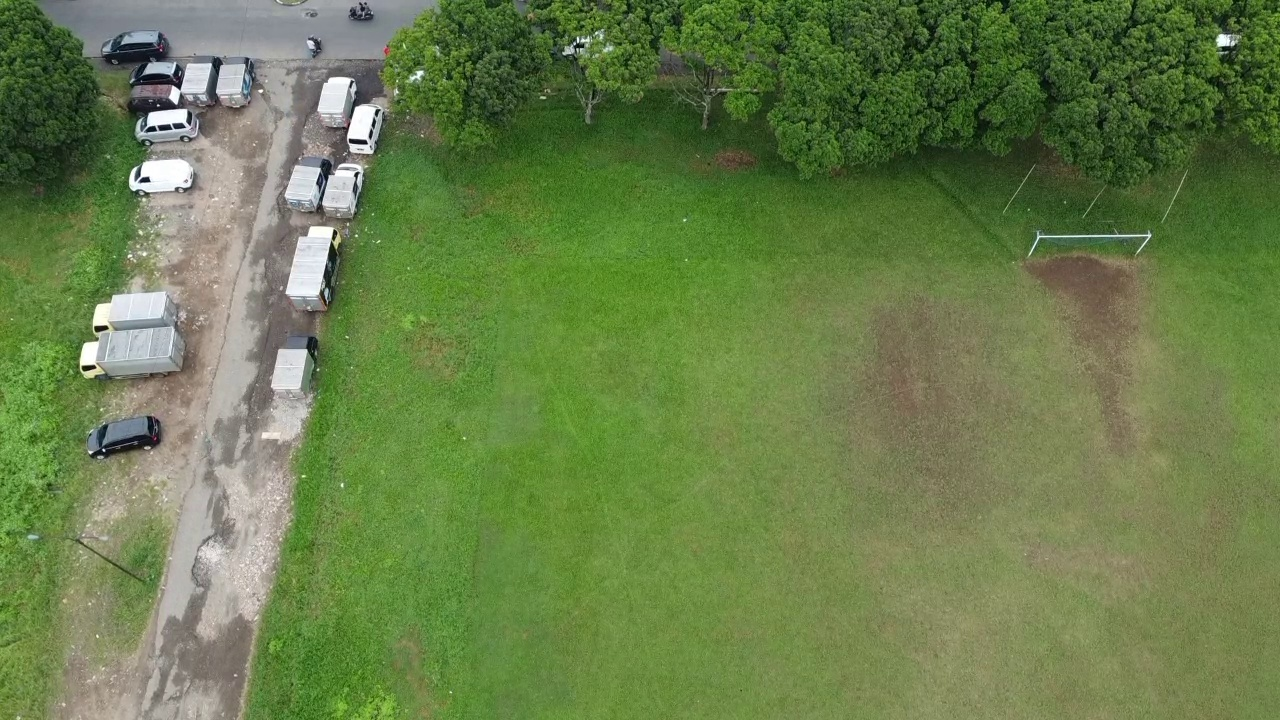mobil: (82, 415, 168, 457), (122, 157, 201, 198), (94, 28, 174, 68), (130, 103, 202, 145), (343, 96, 383, 156), (125, 80, 182, 115), (130, 61, 183, 91)
